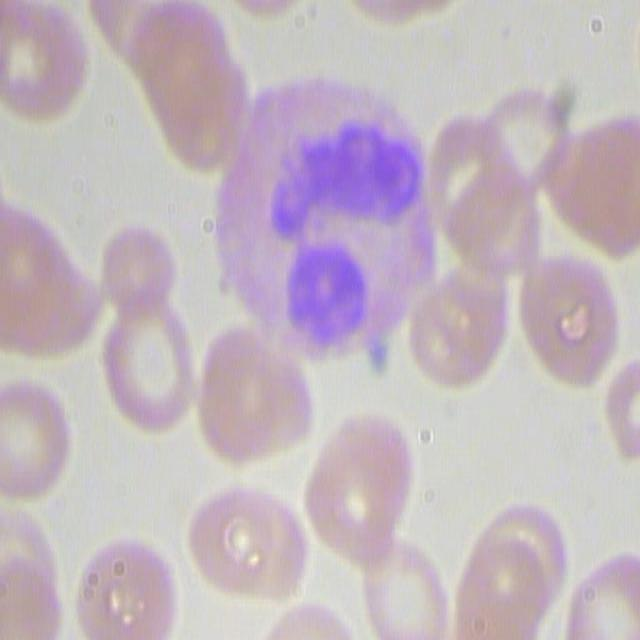RBC: (425, 87, 533, 272), (191, 314, 314, 474), (132, 0, 245, 173), (446, 496, 572, 640), (303, 411, 412, 568), (184, 471, 305, 610), (0, 192, 95, 364), (97, 292, 203, 446), (397, 256, 510, 390), (537, 110, 637, 261), (515, 251, 620, 387), (0, 2, 86, 128), (75, 532, 175, 637), (482, 82, 574, 194), (0, 370, 72, 509), (358, 534, 453, 638), (562, 550, 639, 640), (604, 346, 640, 468)
WBC: (227, 74, 434, 346)
